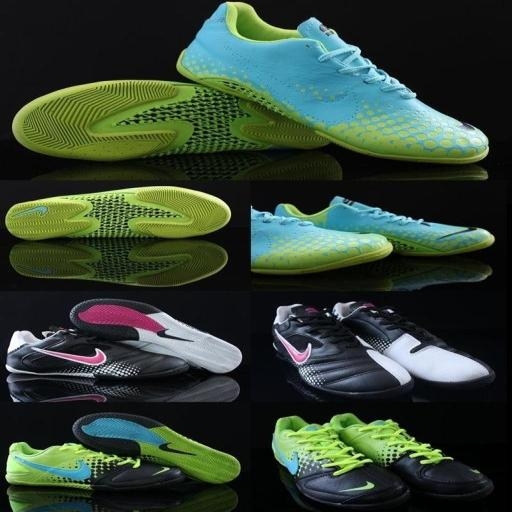shoe: (174, 0, 498, 167), (9, 80, 337, 162), (340, 406, 504, 501), (263, 301, 417, 398), (5, 182, 240, 244), (334, 299, 500, 386), (270, 414, 412, 512), (320, 194, 504, 261), (80, 408, 254, 478), (4, 439, 198, 499), (248, 206, 402, 274), (6, 327, 193, 383), (67, 296, 241, 342)
